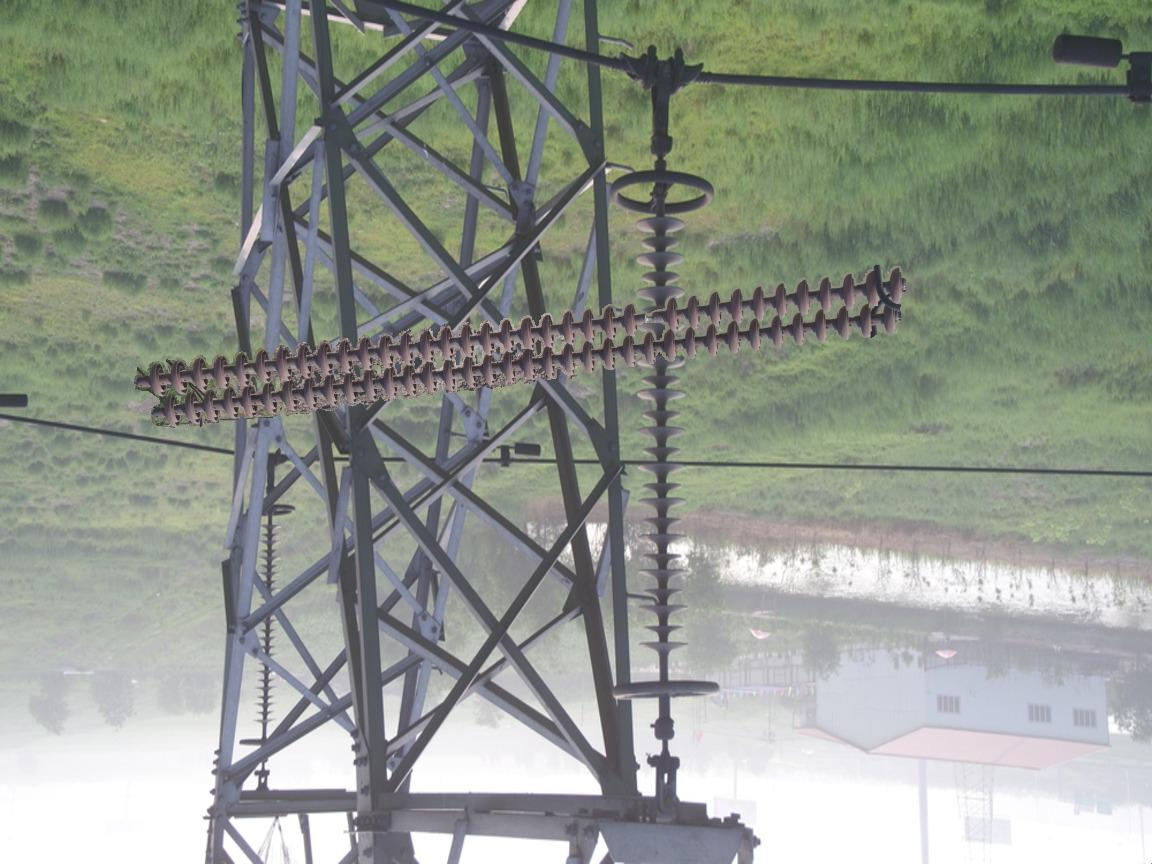insulator: (139, 260, 915, 430), (629, 206, 697, 660), (250, 516, 287, 729)
insulator_stringdrop: (620, 296, 681, 338)
